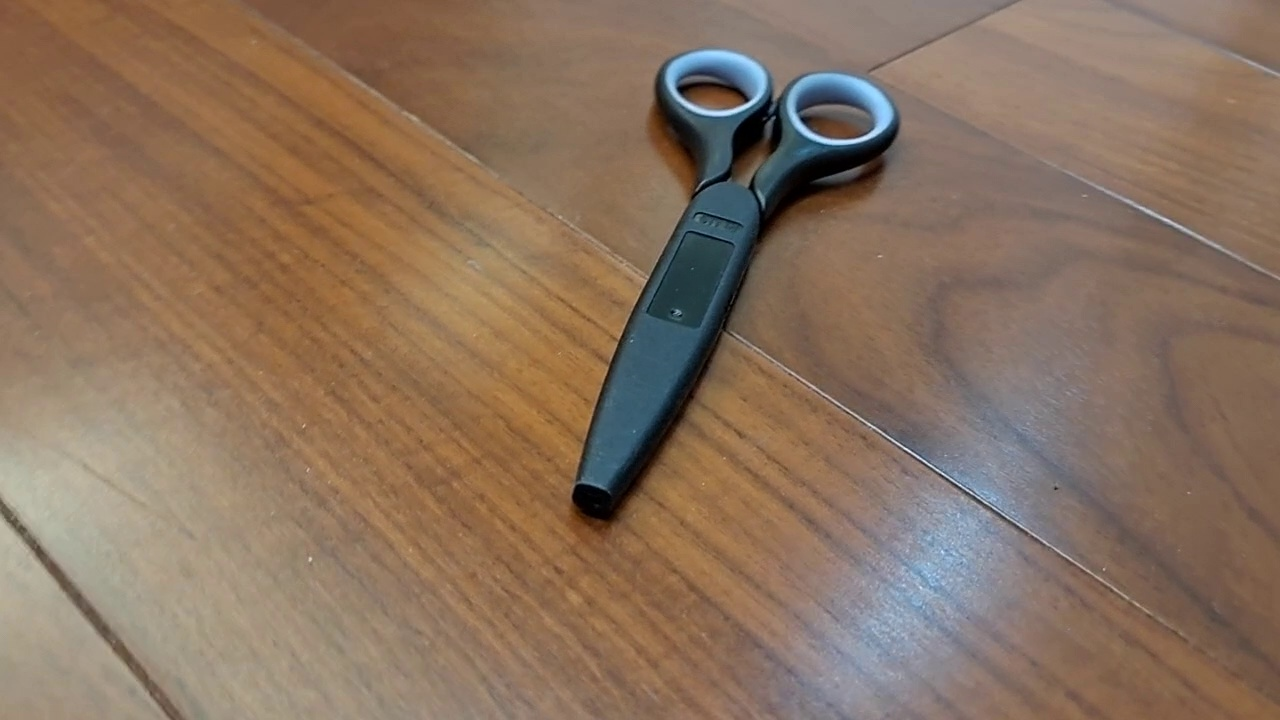scissors: (570, 45, 901, 522)
